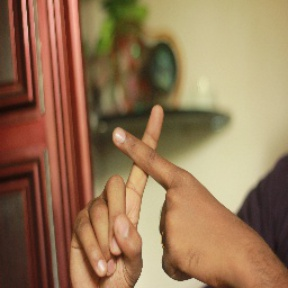X: (80, 92, 209, 236)
